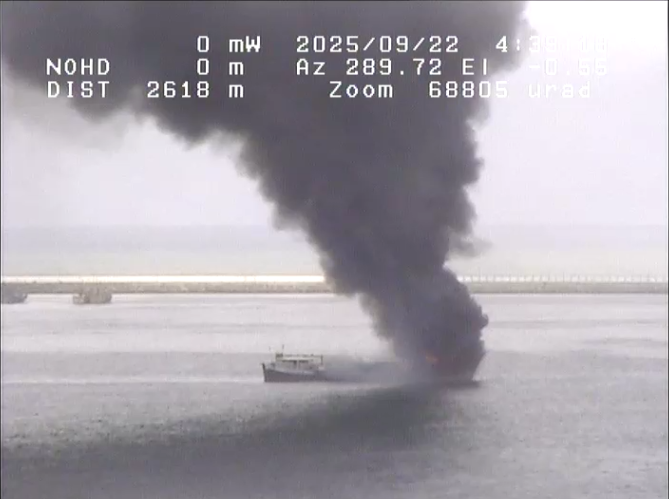FIRE_ONBOARD: (172, 112, 549, 422)
FISHING_VESSEL: (252, 337, 497, 404)
